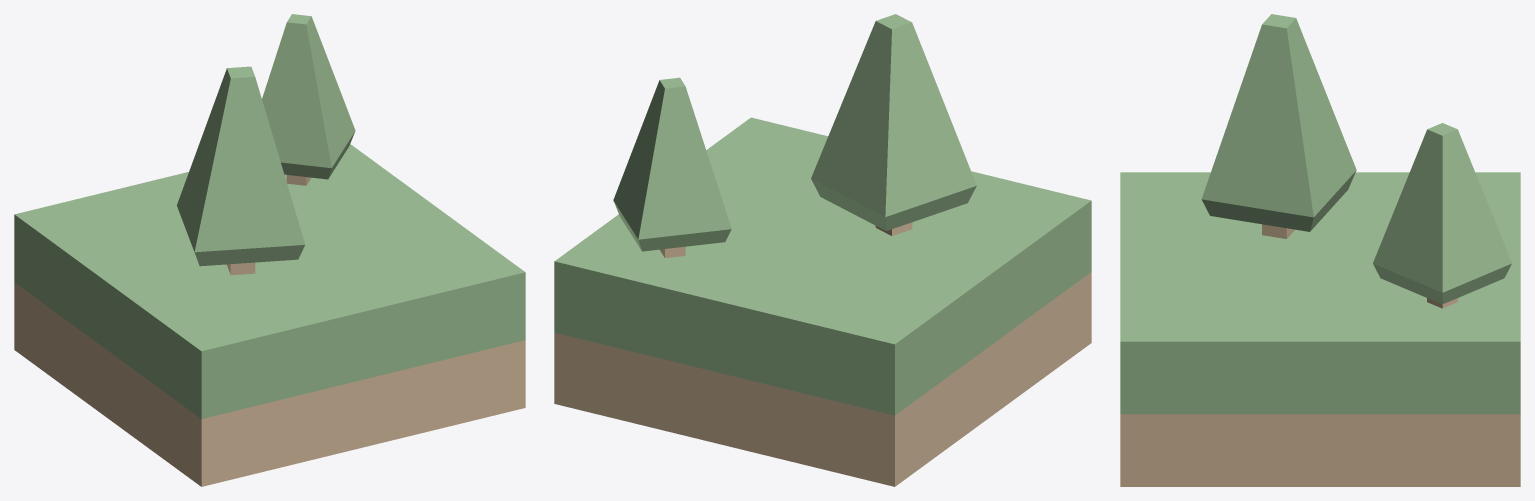
File: tile_003.gltf
The picture shows the model from 3 angles, left to right: view 1: azimuth 30°, elevation 25°; view 2: azimuth 150°, elevation 25°; view 3: azimuth 270°, elevation 25°; orthographic projection. The views are drawn at different scales.
Visible parts, largest first — view 1: tile_003, Component#2 (×2); view 2: tile_003, Component#2 (×2); view 3: tile_003, Component#2 (×2).
Boxes of the visible parts, <box> form: tile_003: <box>14,144,525,486</box>; Component#2 (×2): <box>177,14,355,275</box>; tile_003: <box>554,117,1091,486</box>; Component#2 (×2): <box>613,14,976,258</box>; tile_003: <box>1120,172,1520,486</box>; Component#2 (×2): <box>1201,14,1511,308</box>.
Size of the model in its own units: 1 by 0.9802 by 1.
